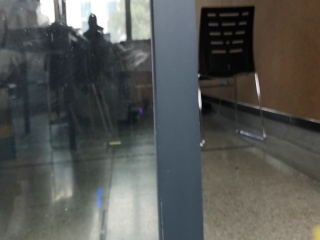room: (3, 2, 310, 235)
